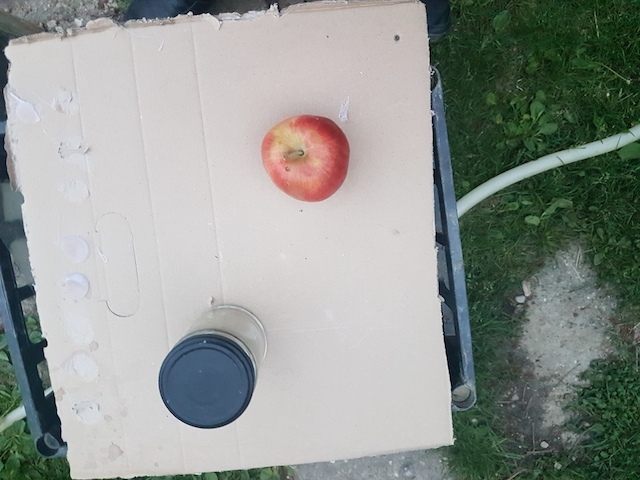apple: (261, 114, 352, 204)
recipient: (159, 340, 258, 431)
